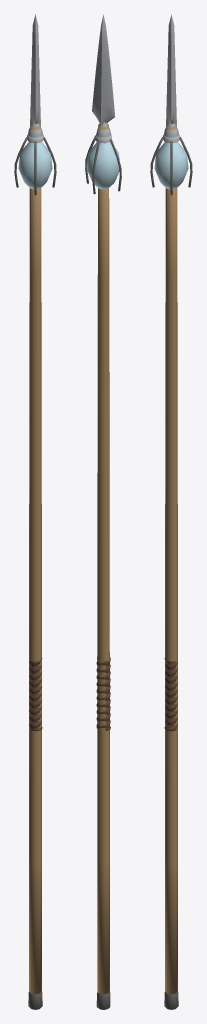
File: flask-pike.glb
The picture shows the model from 3 angles, left to right: view 1: azimuth 90°, elevation 25°; view 2: azimuth 150°, elevation 25°; view 3: azimuth 270°, elevation 25°; orthographic projection.
Parts seen in each view (by area): view 1: flask-pike; view 2: flask-pike; view 3: flask-pike.
Boxes of the visible parts, x1,y1,x2,y2 form: flask-pike: (14,14,56,1009); flask-pike: (85,14,121,1009); flask-pike: (150,14,192,1009).
Bounding box in the file's own units: 0.2464 × 6.43 × 0.247.
